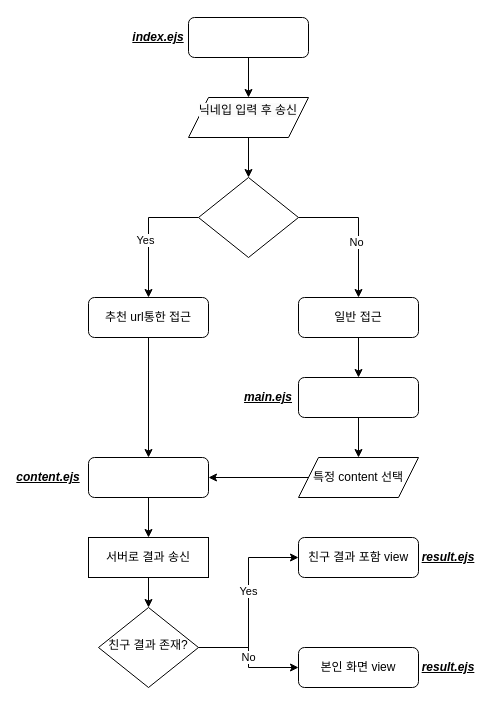
This 496x705 diagram has some shape labels left out. Each missing label, with the box of its shape:
content화면: (88, 456, 208, 498)
main 화면: (298, 376, 418, 418)
인덱스 페이지 접근: (188, 16, 308, 58)
쿼리스트링 존재?: (198, 176, 298, 258)
